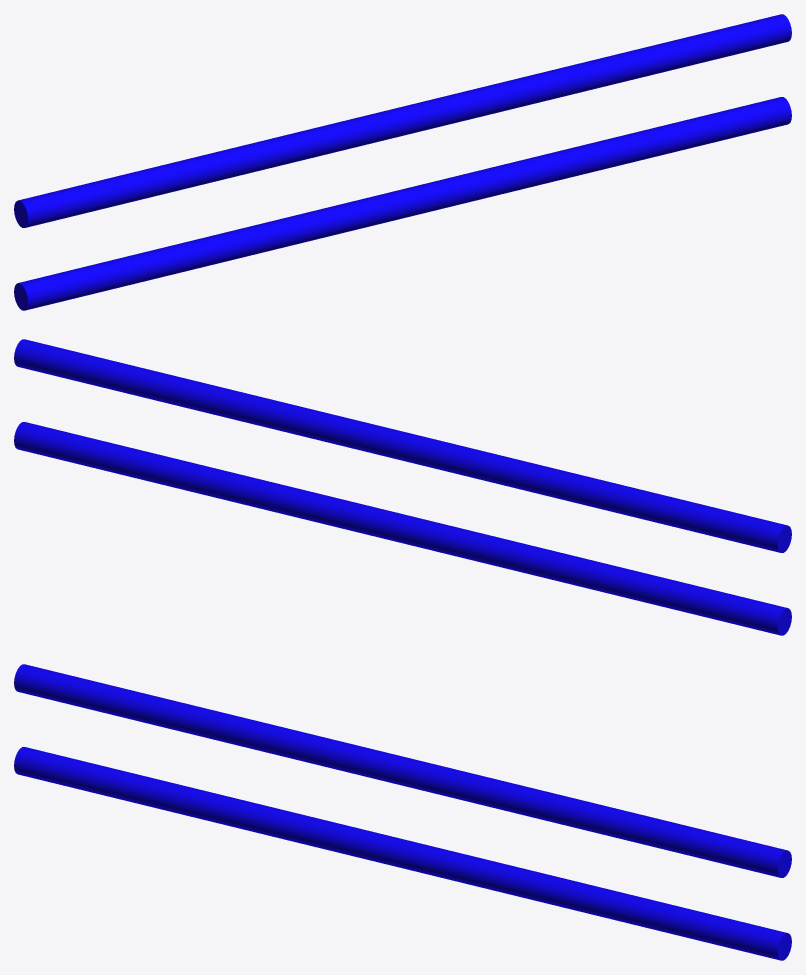
The model's file is blueGate.FBX.
3 views of the same model, one above another, from view 1: azimuth 30°, elevation 25°; view 2: azimuth 150°, elevation 25°; view 3: azimuth 330°, elevation 25° (orthographic).
Parts seen in each view (by area): view 1: Cylinder001, Cylinder002; view 2: Cylinder001, Cylinder002; view 3: Cylinder001, Cylinder002.
Part boxes in pixels (left/top/right/bottom): Cylinder001: left=14, top=97, right=791, bottom=310; Cylinder002: left=14, top=14, right=791, bottom=227; Cylinder001: left=14, top=422, right=791, bottom=635; Cylinder002: left=14, top=339, right=791, bottom=552; Cylinder001: left=14, top=747, right=791, bottom=960; Cylinder002: left=14, top=664, right=791, bottom=877.
Size of the model in its own units: 1.83 by 0.2471 by 0.059.
